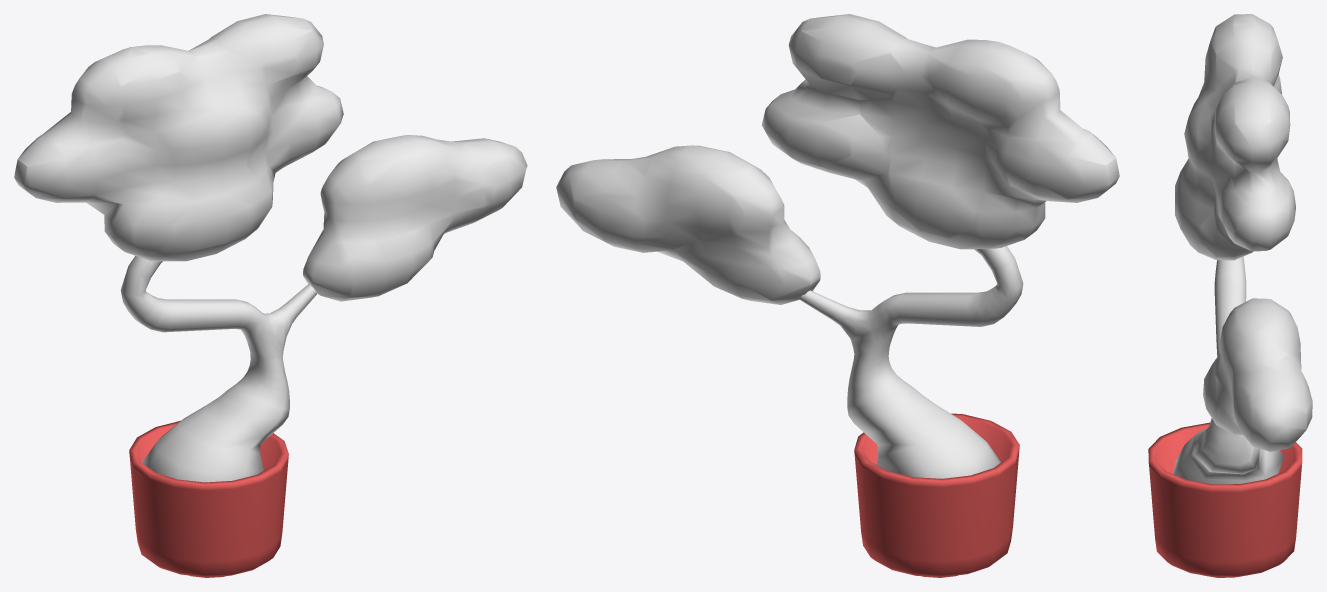
The model's file is SM_CherryTree_low3.fbx.
3 renders of one model, left to right at view 1: azimuth 30°, elevation 25°; view 2: azimuth 150°, elevation 25°; view 3: azimuth 270°, elevation 25°, orthographic. The views are drawn at different scales.
Parts seen in each view (by area): view 1: Mball.009, Tree.001, Cup_low.001; view 2: Mball.009, Tree.001, Cup_low.001; view 3: Mball.009, Cup_low.001, Tree.001.
Part boxes in pixels (bbox=[...]): Mball.009: bbox=[14, 14, 527, 301]; Tree.001: bbox=[120, 256, 317, 482]; Cup_low.001: bbox=[129, 420, 288, 577]; Mball.009: bbox=[556, 14, 1119, 304]; Tree.001: bbox=[799, 246, 1023, 478]; Cup_low.001: bbox=[854, 413, 1019, 577]; Mball.009: bbox=[1175, 14, 1312, 451]; Cup_low.001: bbox=[1148, 422, 1302, 577]; Tree.001: bbox=[1173, 256, 1284, 484].
Size of the model in its own units: 428 by 407 by 119.
